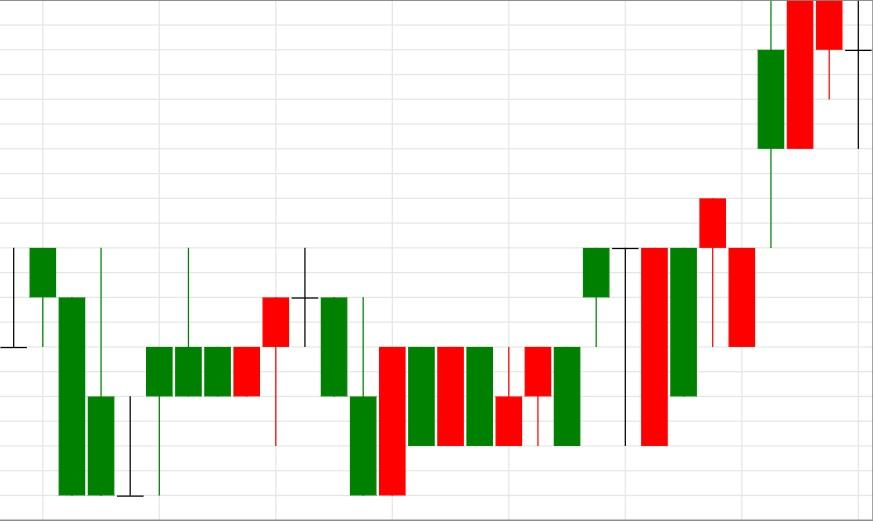bearish_engulfing_fall: (350, 346, 582, 496)
evening_star_fall: (88, 248, 348, 498)
